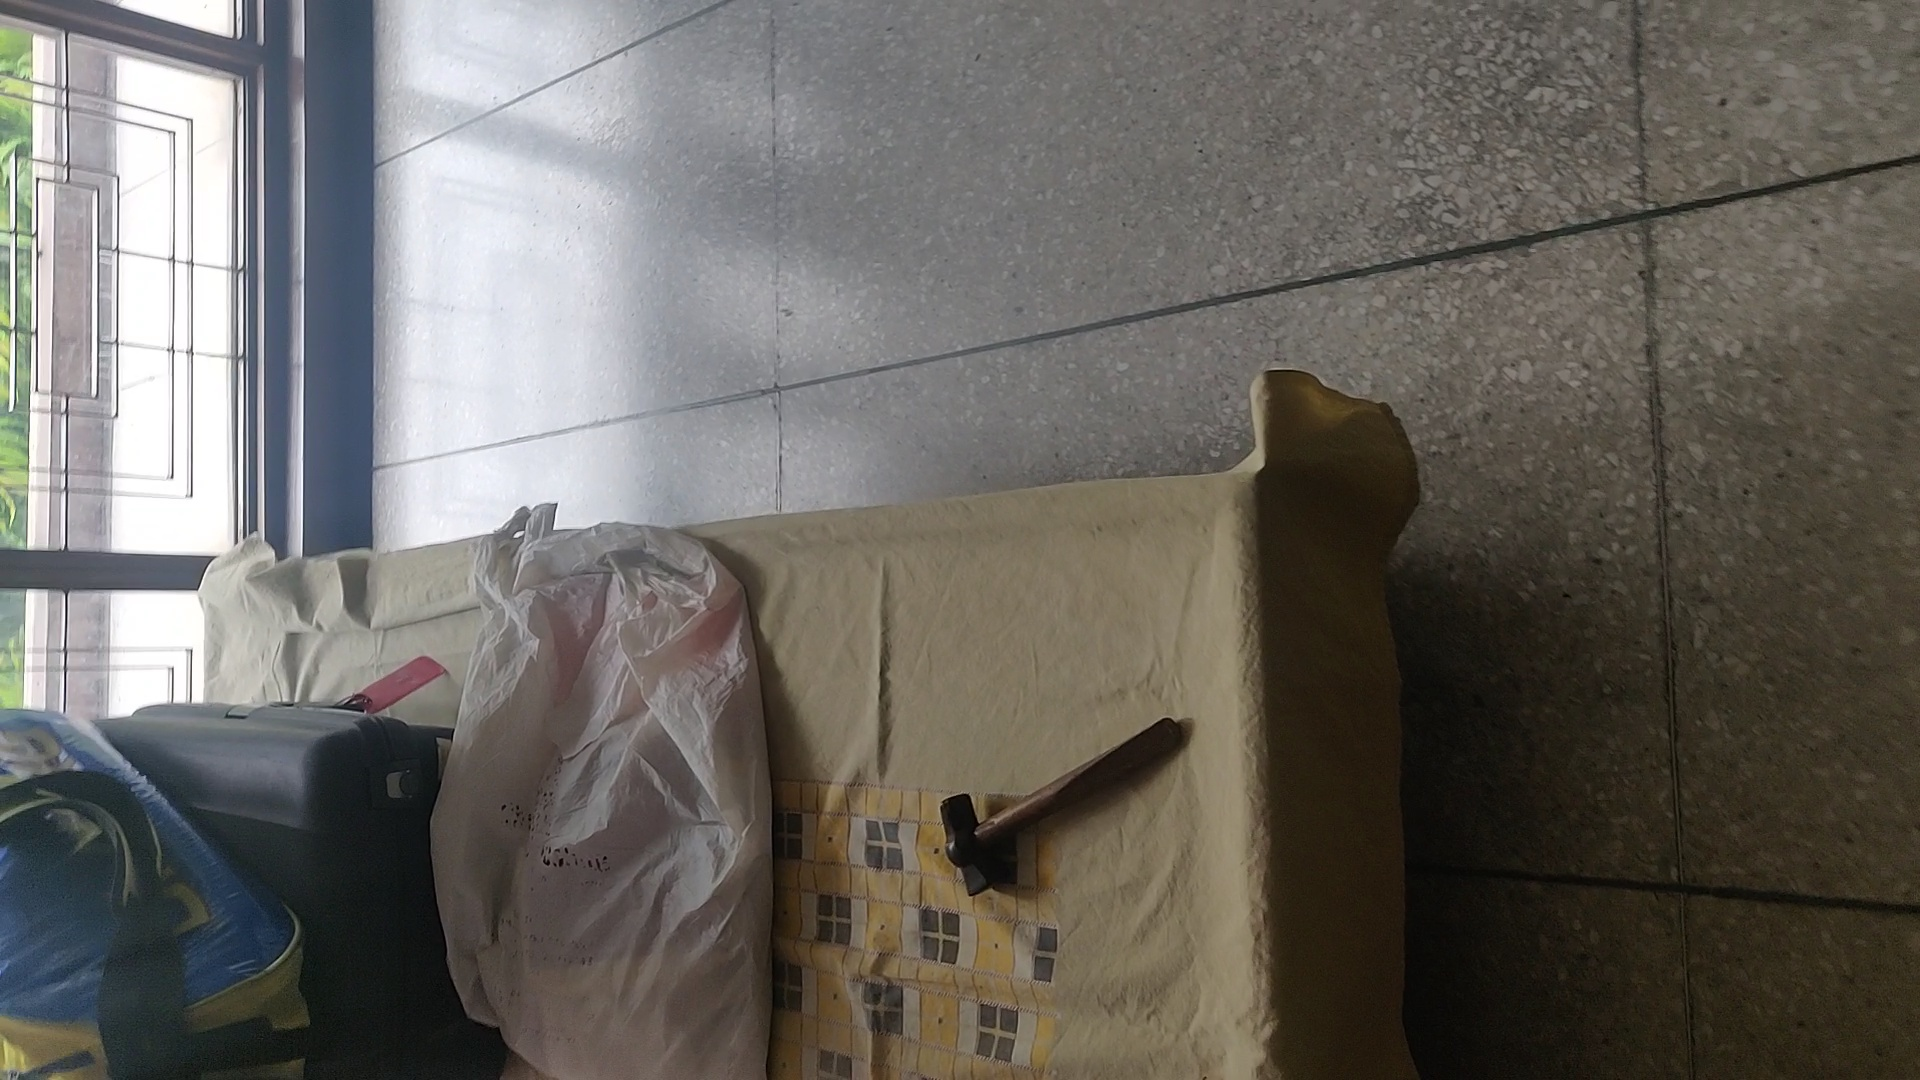hammer: (934, 716, 1189, 899)
